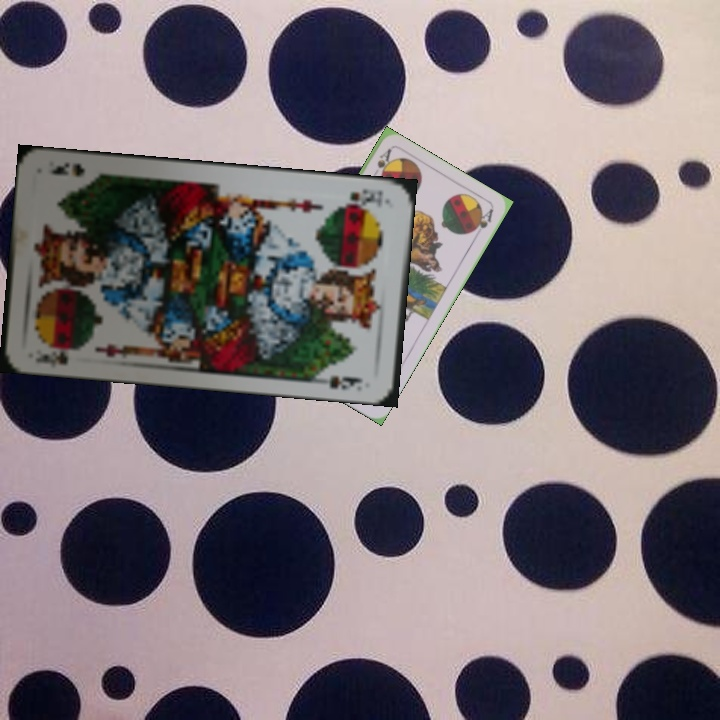SA: (373, 145, 394, 179)
SK: (31, 341, 85, 368), (342, 184, 386, 210)
